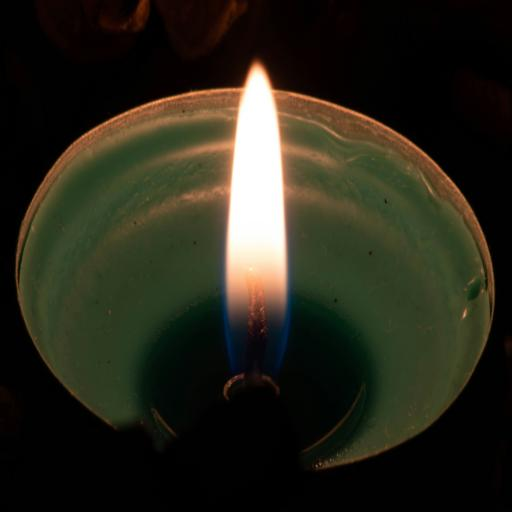fire: (224, 59, 300, 353)
